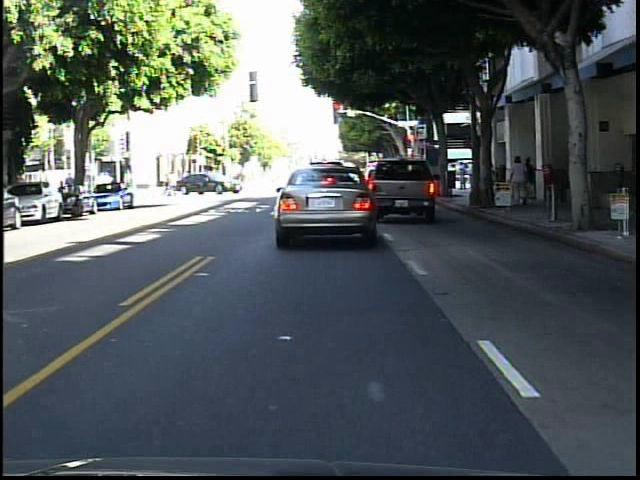person: (512, 154, 531, 209), (524, 153, 537, 206), (63, 169, 81, 207)
